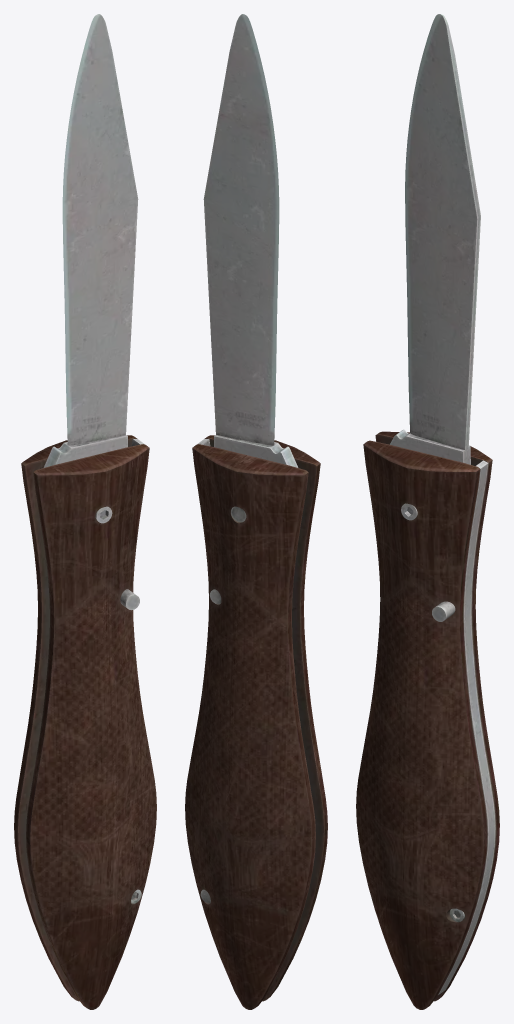
The model's file is fish_knife.glb.
The picture shows the model from 3 angles, left to right: view 1: azimuth 30°, elevation 25°; view 2: azimuth 150°, elevation 25°; view 3: azimuth 330°, elevation 25°; orthographic projection.
Visible parts, largest first — view 1: fish_knife_handle; view 2: fish_knife_handle; view 3: fish_knife_handle.
Part boxes in pixels (box(x1,y1,x2,y2)): fish_knife_handle: box(14, 14, 156, 1009); fish_knife_handle: box(185, 14, 327, 1009); fish_knife_handle: box(356, 14, 499, 1009).
Bounding box in the file's own units: 0.029 × 0.2157 × 0.0162.
Materials: 1 (1 with a texture image).
